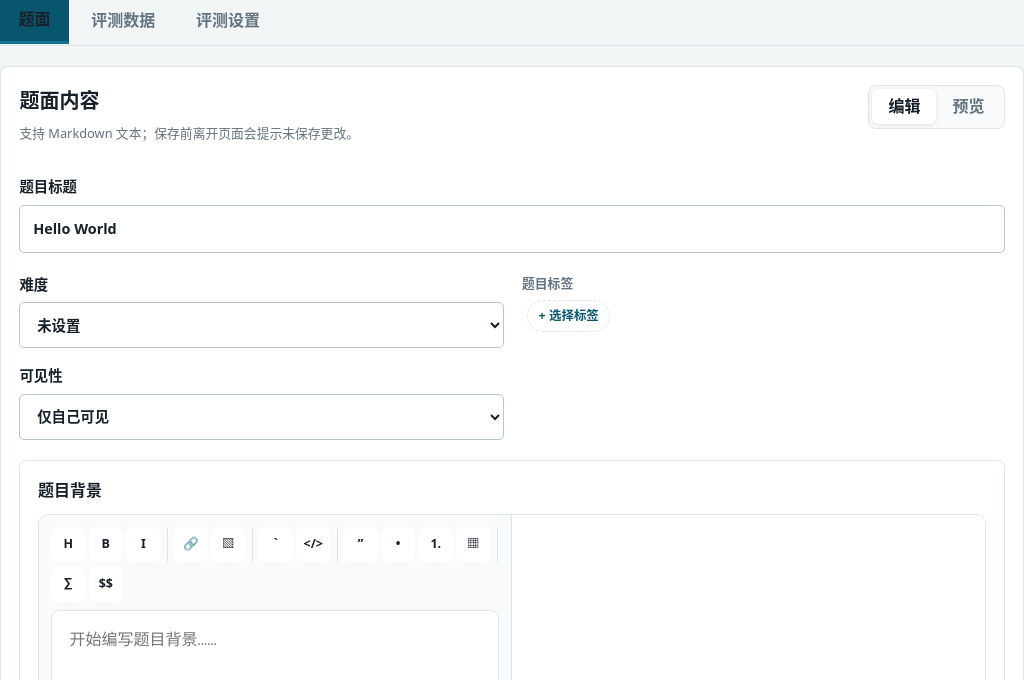
Test: ProblemEditor judge-data contract UI › shows Judge Data validation errors and keeps publication unavailable
The width and height of the screenshot is (1024, 680).
Click the button "评测数据" at (123, 22), box [73, 0, 174, 45]
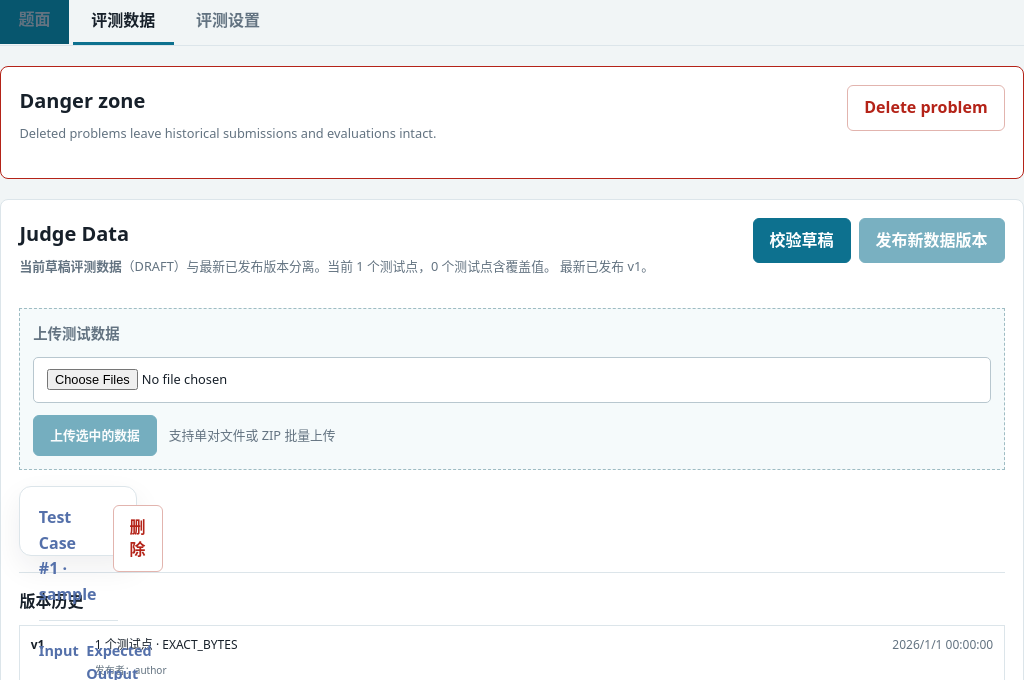
Click the button "校验草稿" at (802, 241), box [753, 218, 851, 263]
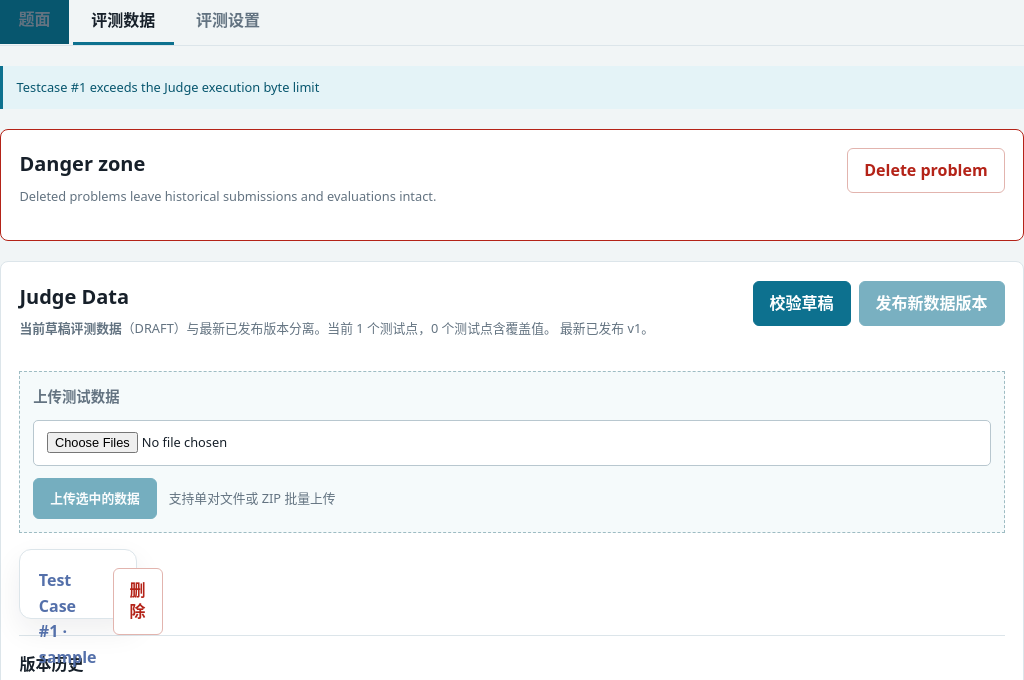
Result: the button "发布新数据版本" is disabled at [859, 281, 1005, 326]
Result: the message reads "Testcase #1 exceeds the Judge execution byte limit" at [17, 78, 319, 96]
